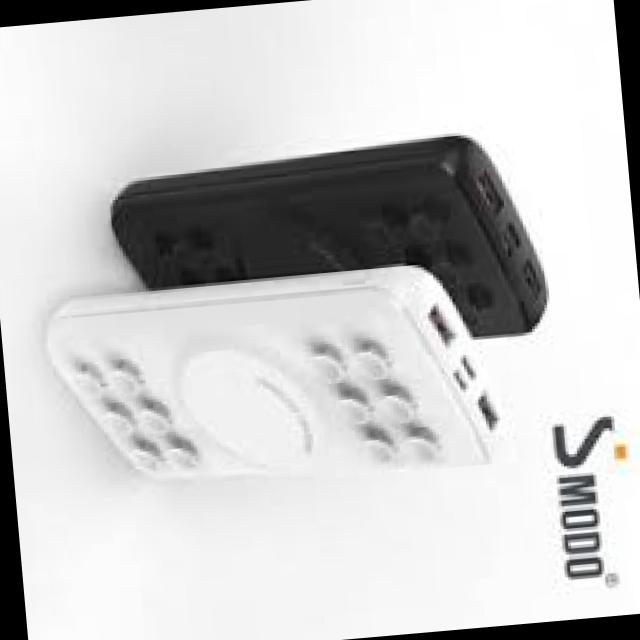portable-charger: (38, 259, 509, 509), (104, 123, 556, 368)
